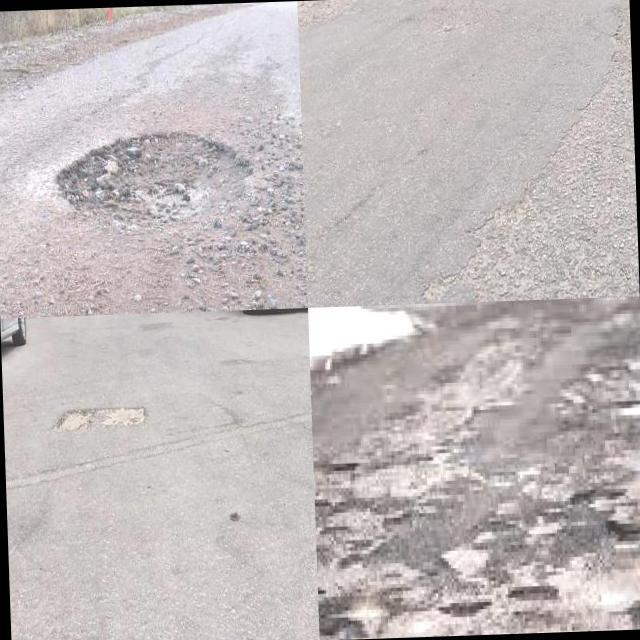Pothole: (54, 128, 254, 230), (52, 404, 145, 428)
